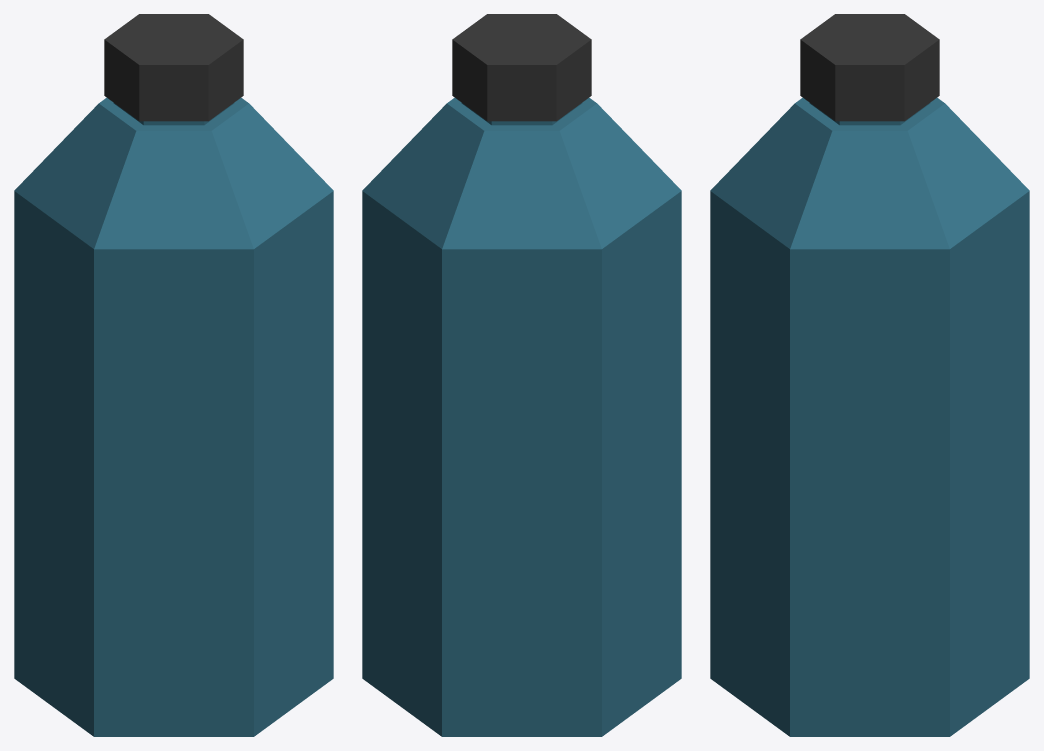
The model's file is Botol.fbx.
3 views of the same model, side by side, from view 1: azimuth 30°, elevation 25°; view 2: azimuth 150°, elevation 25°; view 3: azimuth 270°, elevation 25° (orthographic).
Visible parts, largest first — view 1: Cylinder; view 2: Cylinder; view 3: Cylinder.
Part boxes in pixels (left/top/right/bottom): Cylinder: left=14, top=14, right=333, bottom=736; Cylinder: left=362, top=14, right=681, bottom=736; Cylinder: left=710, top=14, right=1029, bottom=736.
Bounding box in the file's own units: 62.91 × 160 × 72.65.
